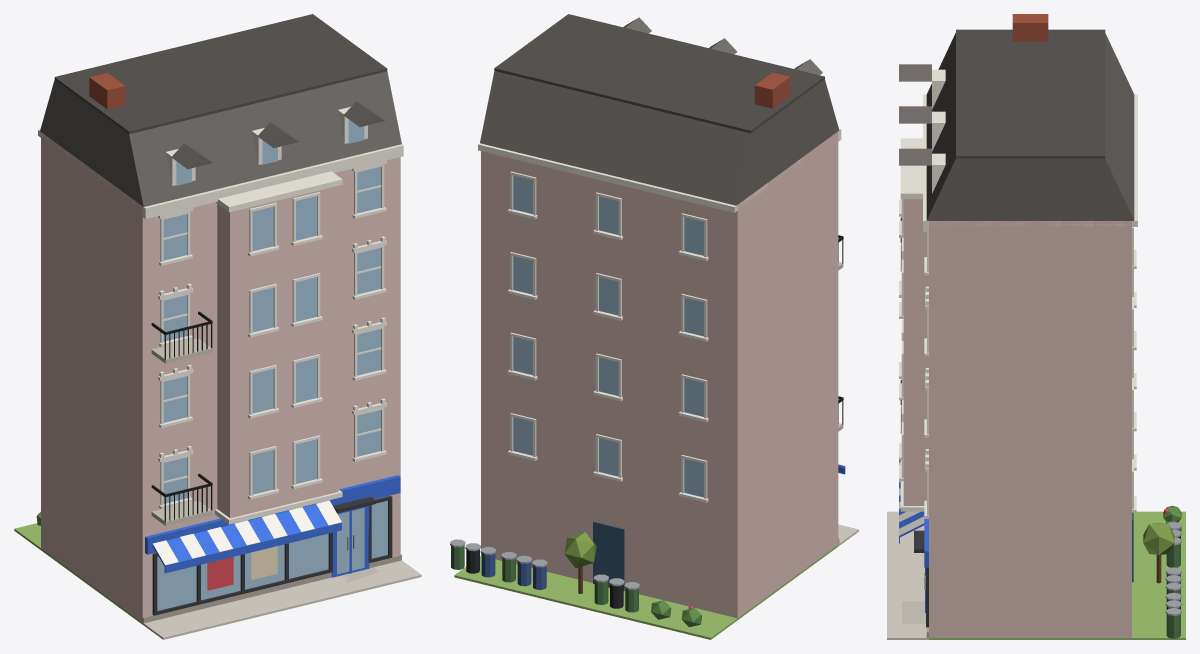
Rendered from Blok_duz_5k_4_Hafif.fbx.
3 views of the same model, side by side, from view 1: azimuth 30°, elevation 25°; view 2: azimuth 150°, elevation 25°; view 3: azimuth 270°, elevation 25° (orthographic).
Visible parts, largest first — view 1: Blok_duz_5k_4_Hafif; view 2: Blok_duz_5k_4_Hafif; view 3: Blok_duz_5k_4_Hafif.
Part boxes in pixels (box(x1,y1,x2,y2)): Blok_duz_5k_4_Hafif: box(14, 14, 421, 639); Blok_duz_5k_4_Hafif: box(450, 14, 858, 639); Blok_duz_5k_4_Hafif: box(887, 14, 1185, 639).
Bounding box in the file's own units: 10.37 × 18.62 × 10.
